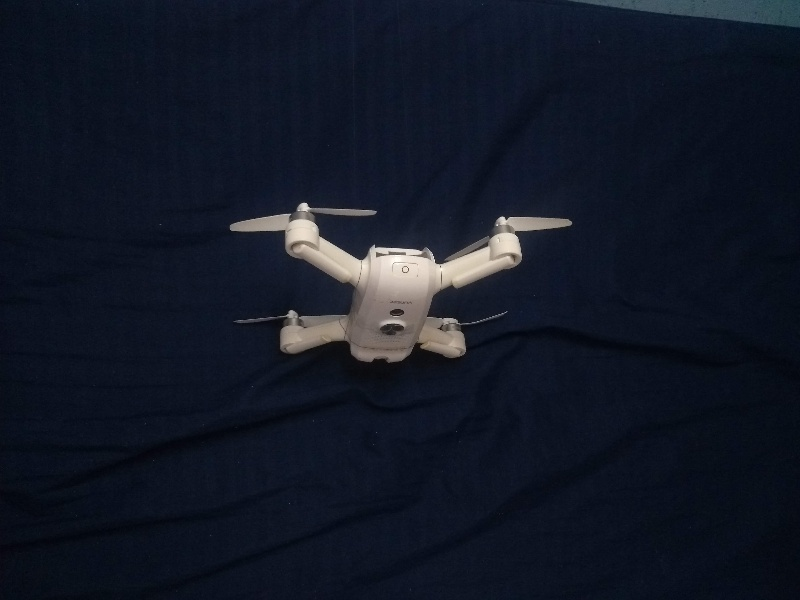drone: (228, 186, 560, 375)
